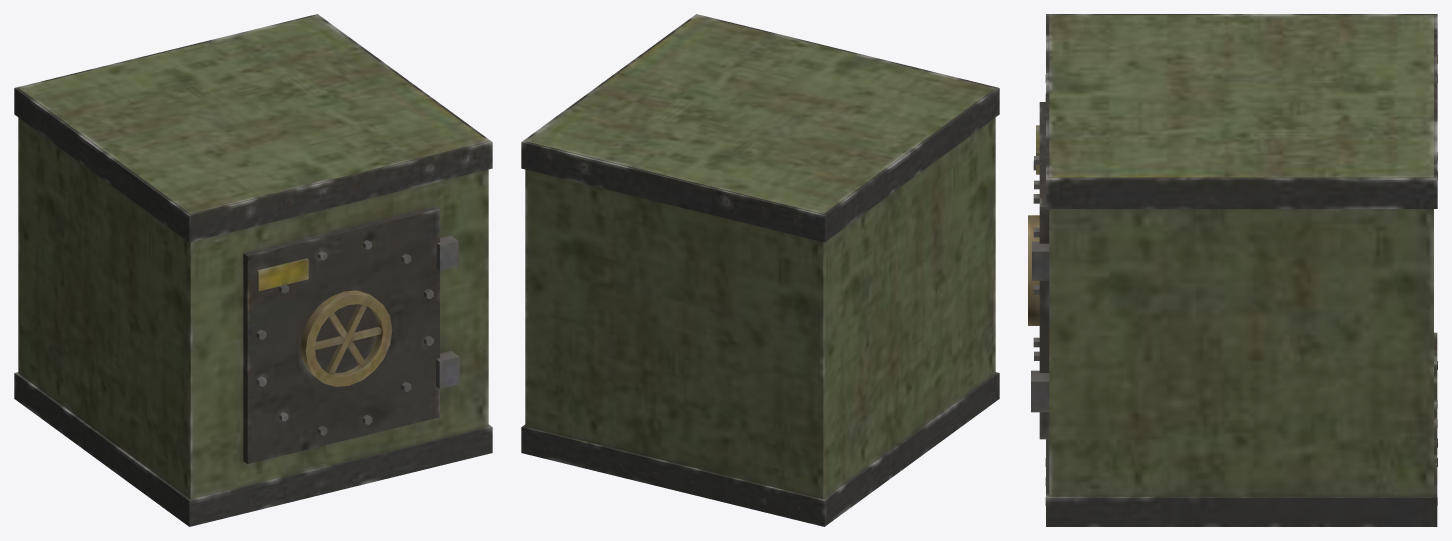
File: feItemVault.glb
3 renders of one model, left to right at view 1: azimuth 30°, elevation 25°; view 2: azimuth 150°, elevation 25°; view 3: azimuth 270°, elevation 25°, orthographic. The views are drawn at different scales.
Parts seen in each view (by area): view 1: feItemVault_Base; view 2: feItemVault_Base; view 3: feItemVault_Base.
Part boxes in pixels (x1=…): feItemVault_Base: x1=14, y1=14, x2=492, y2=526; feItemVault_Base: x1=521, y1=14, x2=999, y2=526; feItemVault_Base: x1=1028, y1=14, x2=1437, y2=526.
Bounding box in the file's own units: 0.9812 × 0.9636 × 1.03.
Materials: 1 (1 with a texture image).
